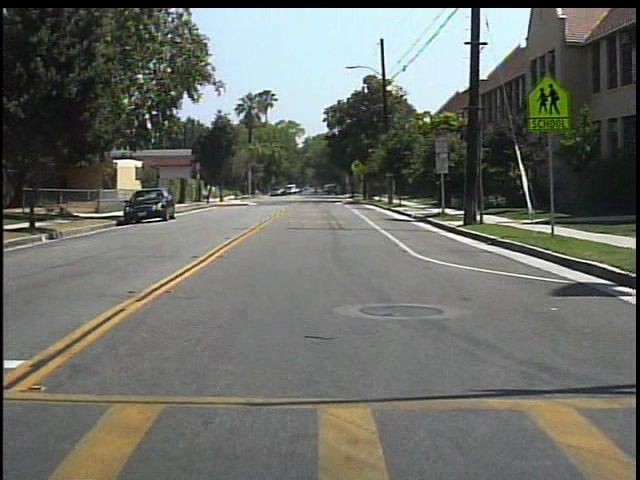person: (308, 181, 323, 198)
